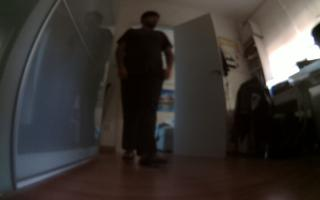person: (110, 7, 177, 171)
